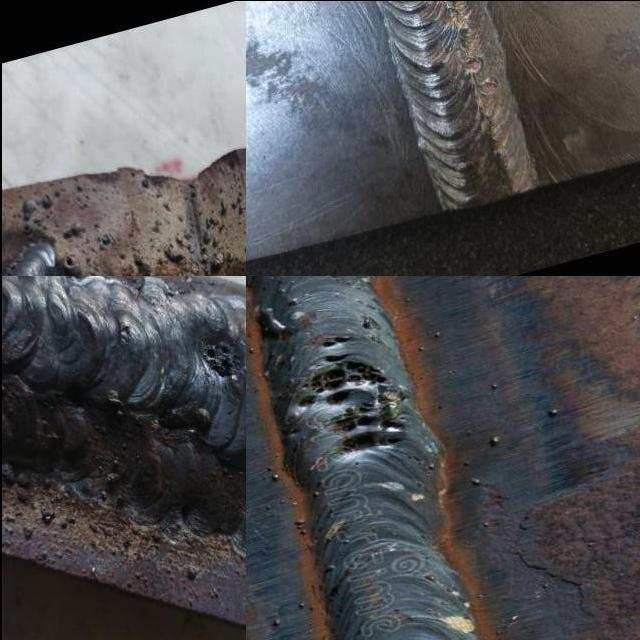defect: (295, 350, 387, 412), (332, 399, 407, 454), (198, 328, 241, 379), (62, 380, 86, 409), (320, 334, 354, 346), (475, 79, 497, 96), (462, 56, 483, 73), (461, 24, 472, 34)
